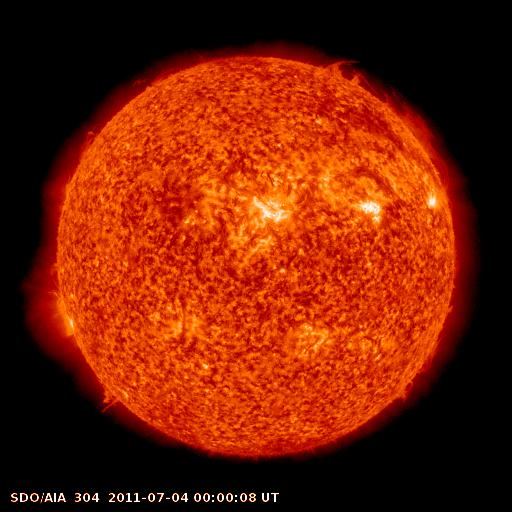prominence: (381, 86, 452, 189), (323, 52, 373, 97), (87, 377, 132, 421), (141, 60, 196, 90), (68, 123, 98, 168), (42, 256, 70, 289)
